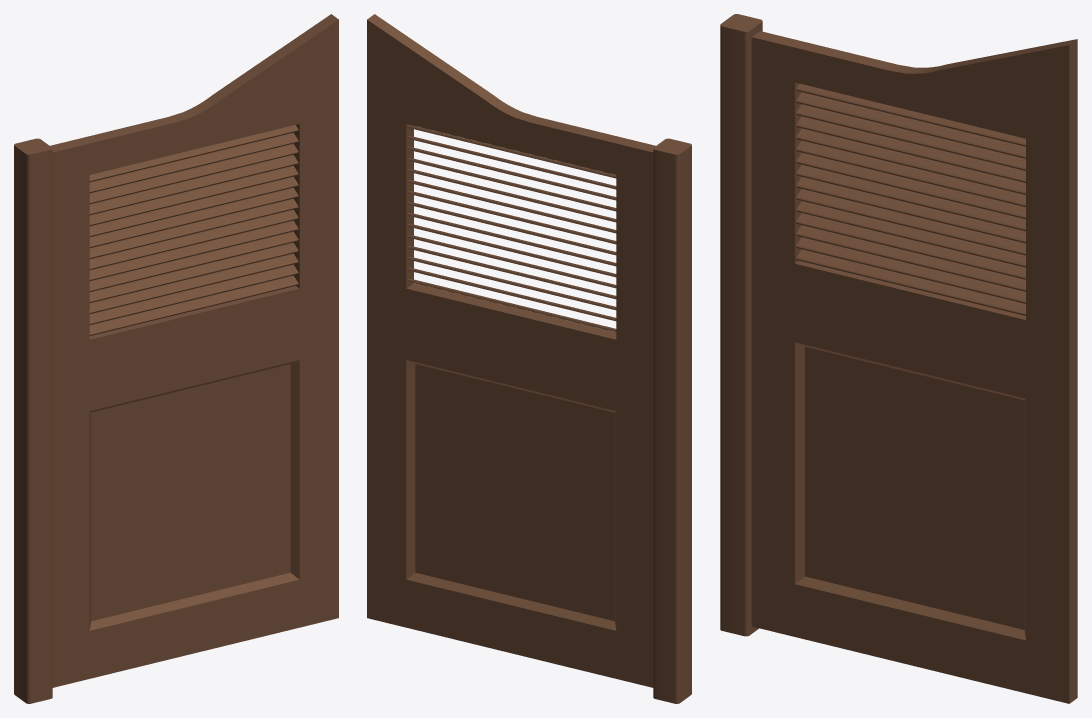
Rendered from Saloon.fbx.
3 renders of one model, left to right at view 1: azimuth 30°, elevation 25°; view 2: azimuth 150°, elevation 25°; view 3: azimuth 330°, elevation 25°, orthographic. The views are drawn at different scales.
Visible parts, largest first — view 1: Western saloon doors right_brown wood_0; view 2: Western saloon doors right_brown wood_0; view 3: Western saloon doors right_brown wood_0.
Boxes of the visible parts, x1,y1,x2,y2 form: Western saloon doors right_brown wood_0: [14, 14, 338, 703]; Western saloon doors right_brown wood_0: [367, 14, 691, 703]; Western saloon doors right_brown wood_0: [720, 14, 1077, 703].
Size of the model in its own units: 600 by 1103 by 50.
